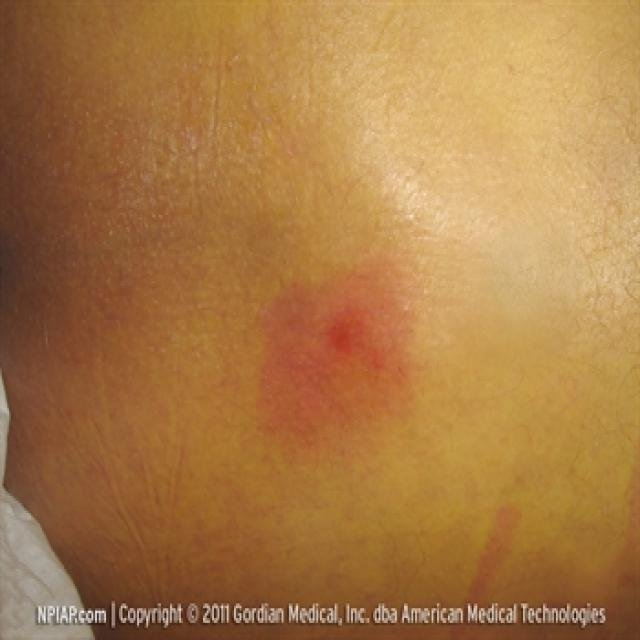stage-1: (257, 277, 407, 450)
